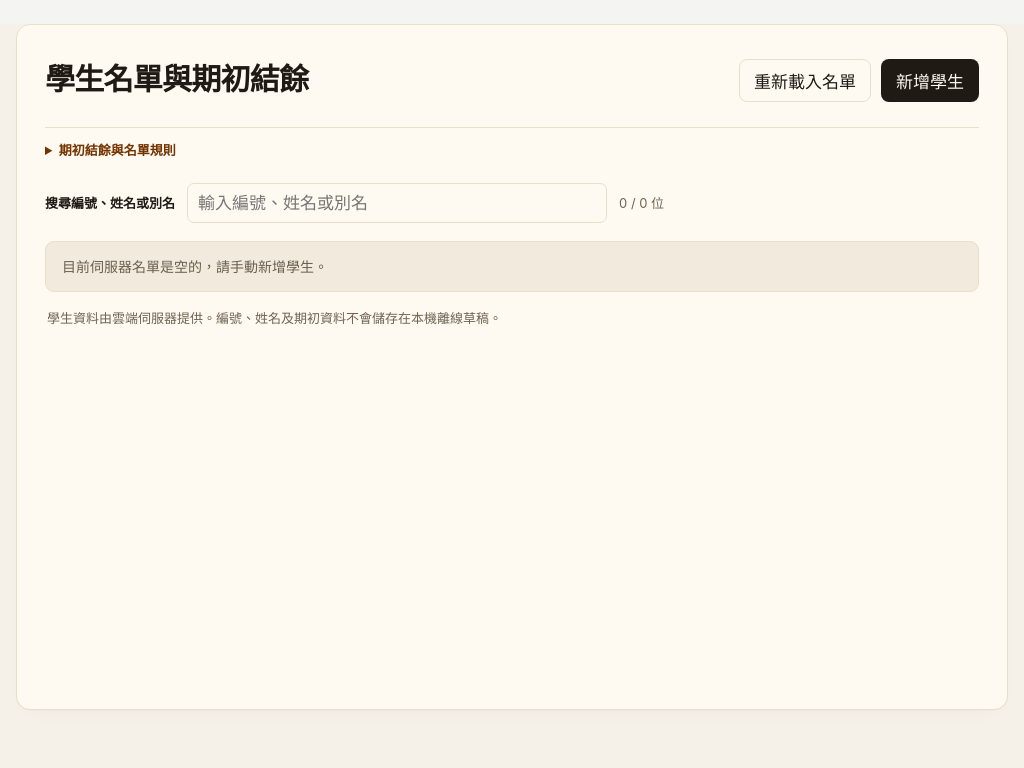
Test case: CloudStudentsPage › sends a negative opening balance with the explicitly selected new-student date and waits for a server list reload
Expected: the text "目前伺服器名單是空的，請手動新增學生。" is shown, [62,258,328,275]
Click the button "新增學生" at (930, 80), box [881,58,979,102]
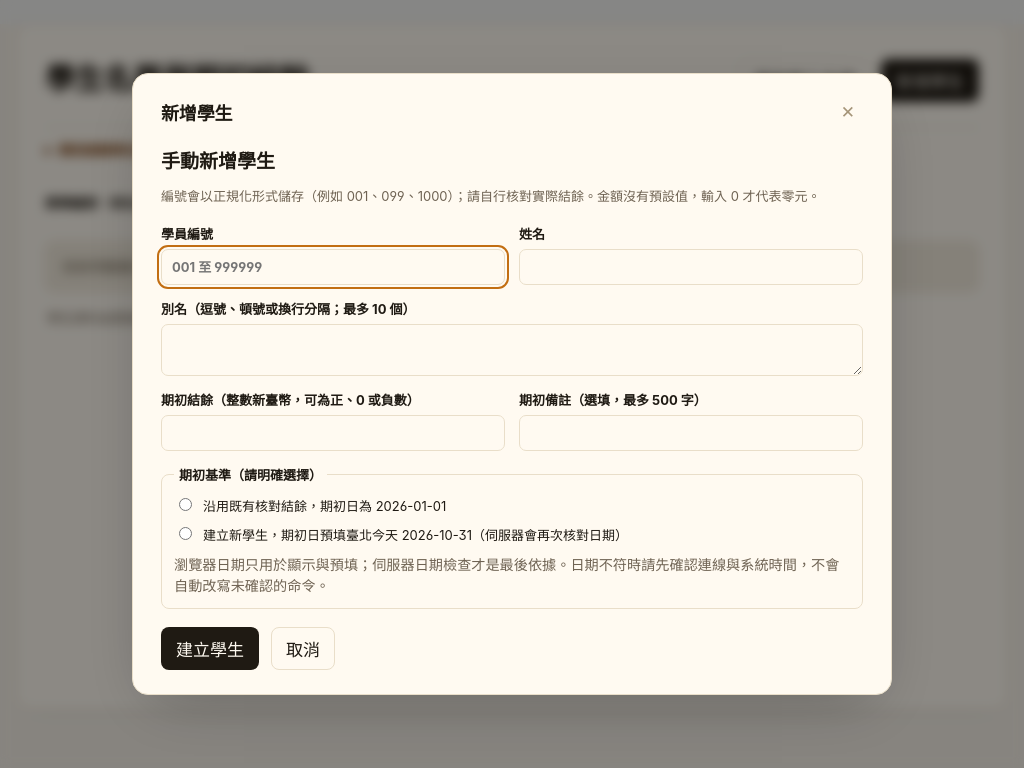
Type "001" into the field labelled "學員編號" at (333, 267), box [161,249,505,285]
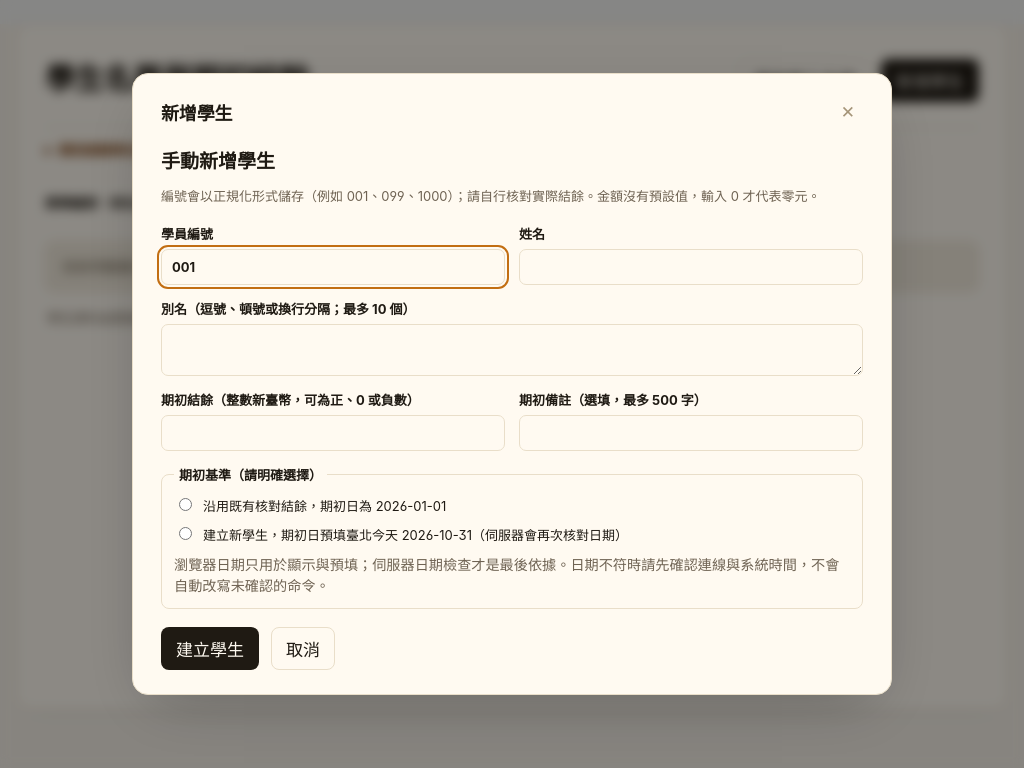
Type "新學生" into the field labelled "姓名" at (691, 267), box [519,249,863,285]
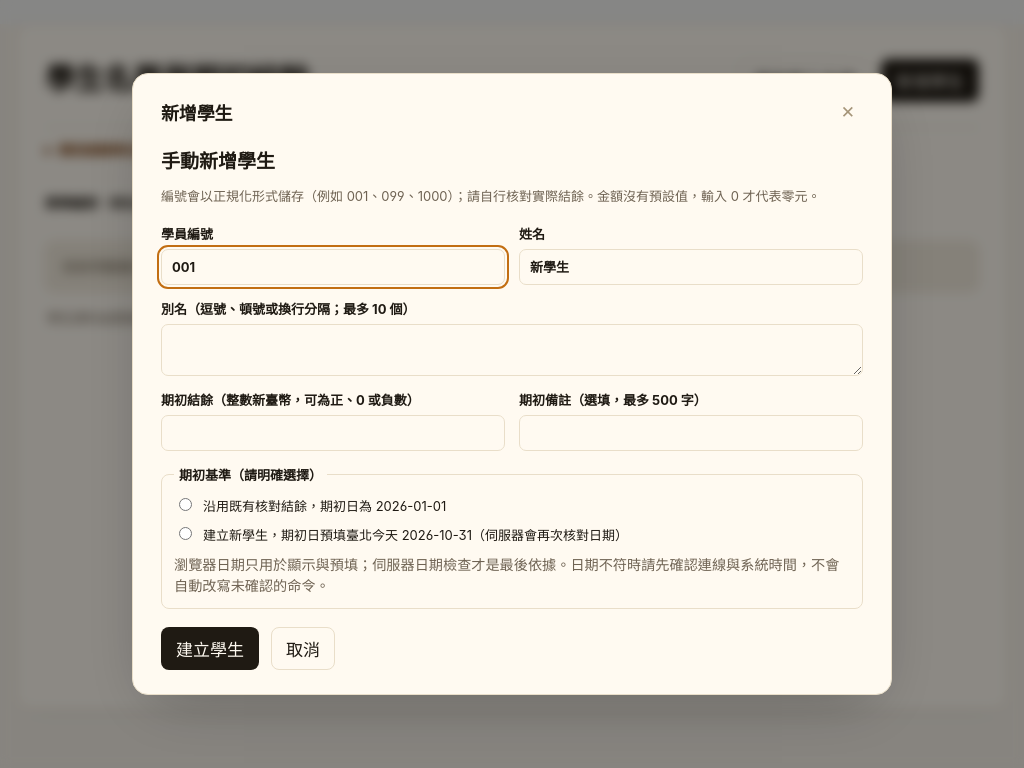
Type "-25" into the field labelled "期初結餘（整數新臺幣，可為正、0 或負數）" at (333, 433), box [161,415,505,451]
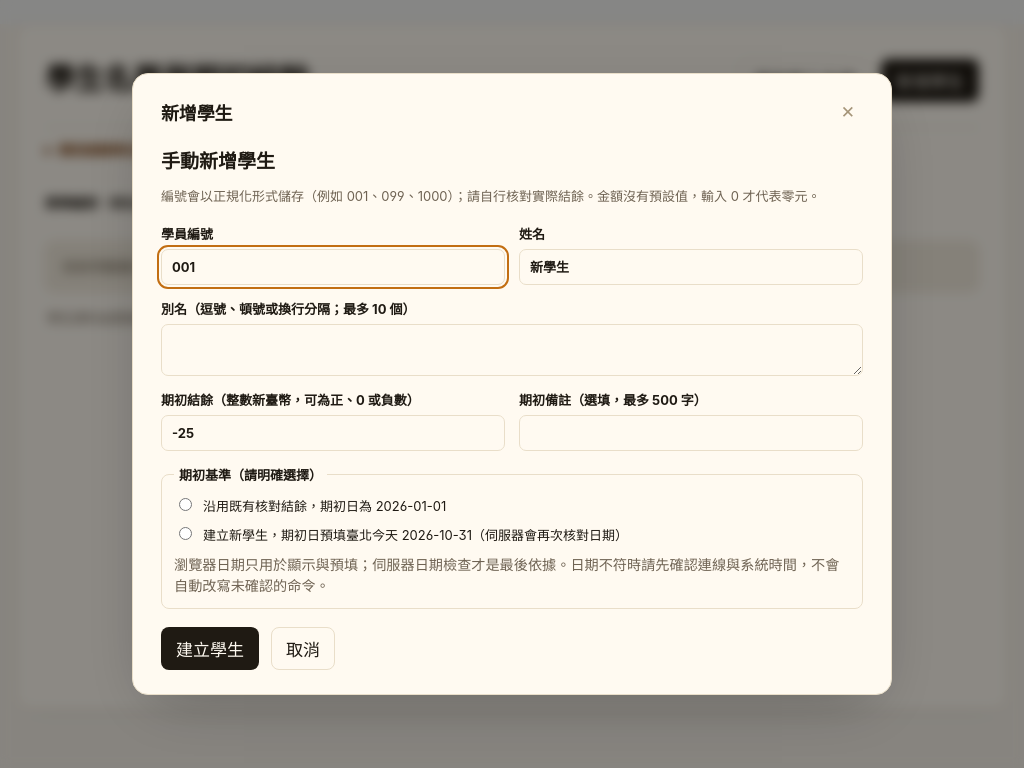
Click the radio button labelled "建立新學生，期初日預填臺北今天 2026-10-31（伺服器會再次核對日期）" at (186, 533), box [179,527,192,540]
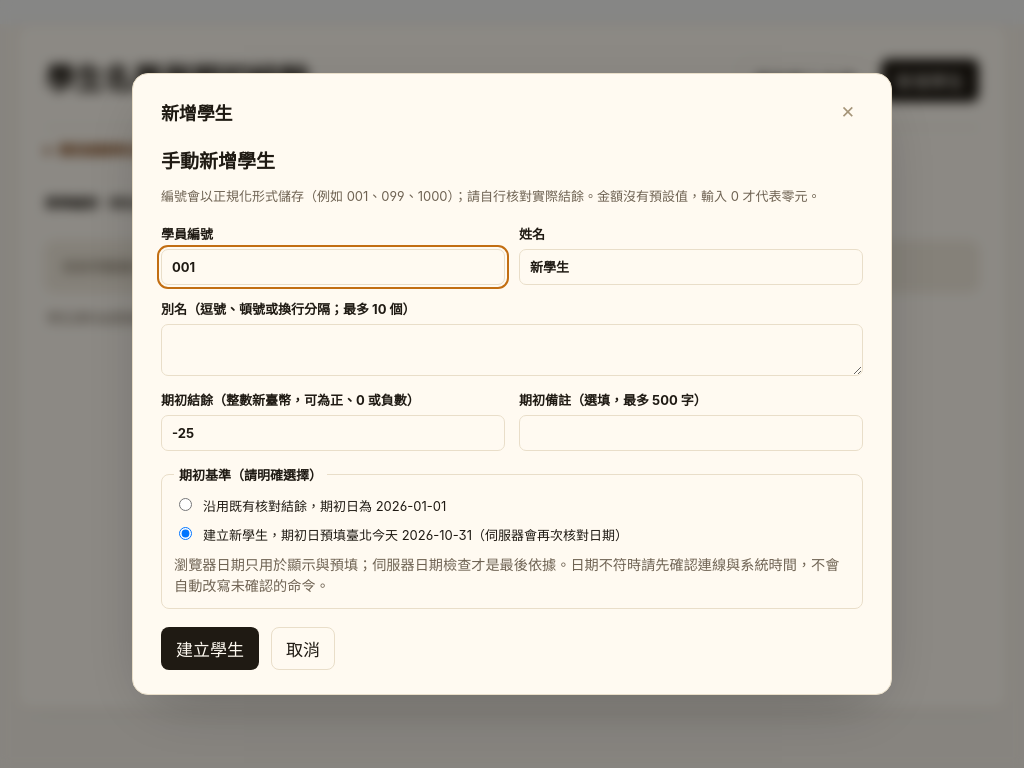
Click the button "建立學生" at (210, 649), box [161,627,259,670]
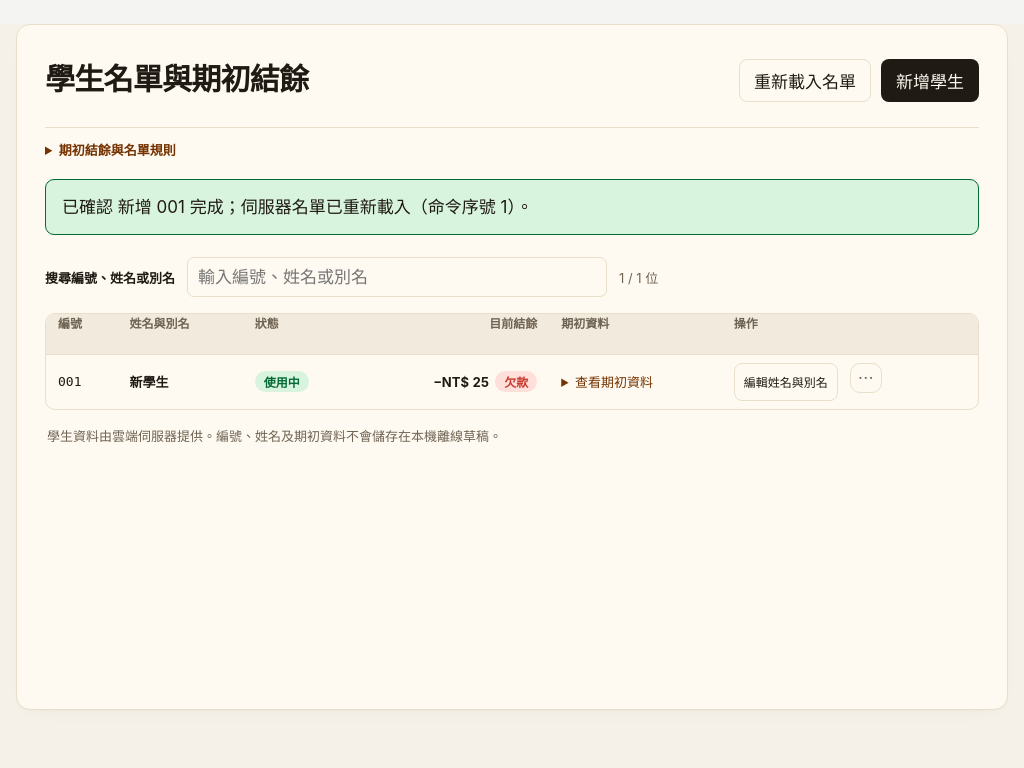
Now the text "已確認 新增 001 完成；伺服器名單已重新載入（命令序號 1）。" is shown, box [45,179,979,235]
